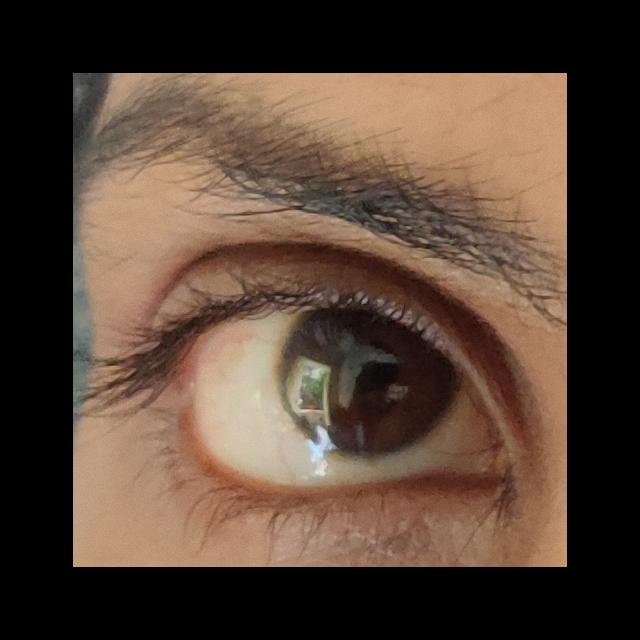eye: (195, 309, 492, 486)
iris: (274, 307, 459, 458)
